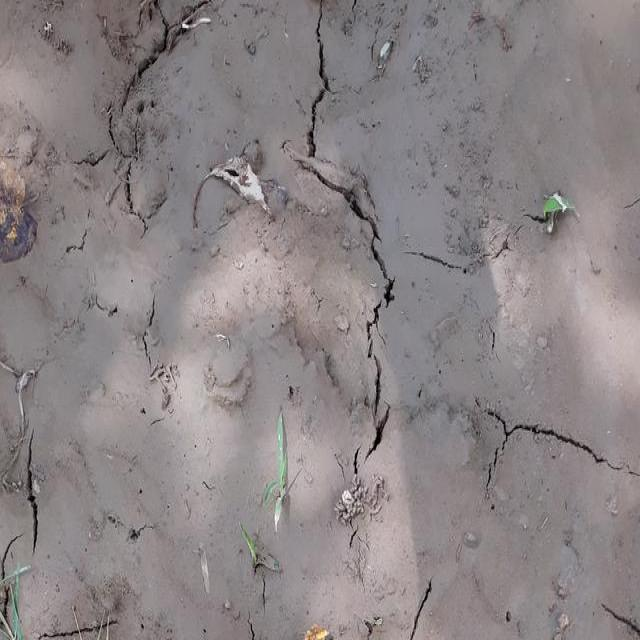weed: (252, 405, 327, 556)
